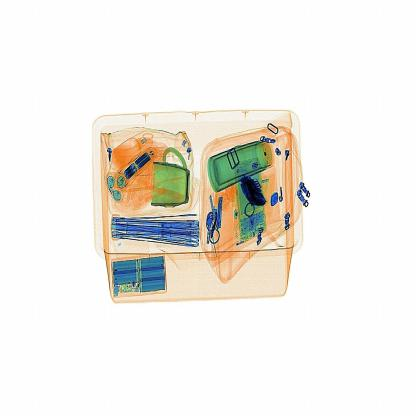scissors: (236, 167, 272, 212)
